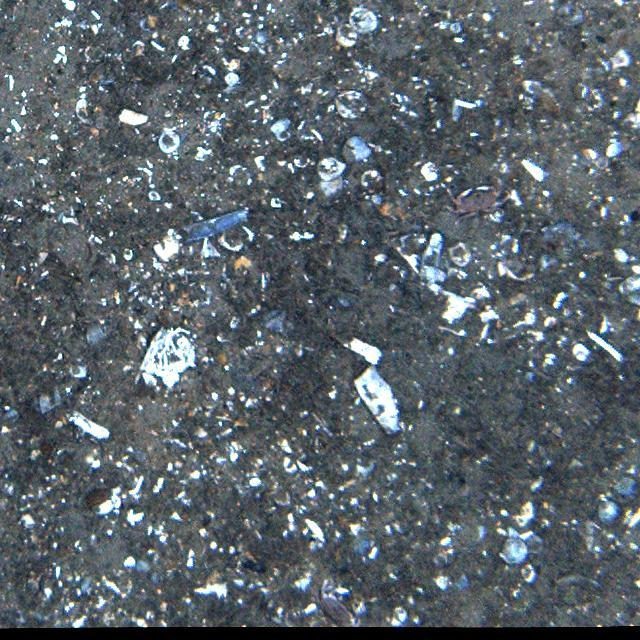crab: (444, 186, 509, 219)
